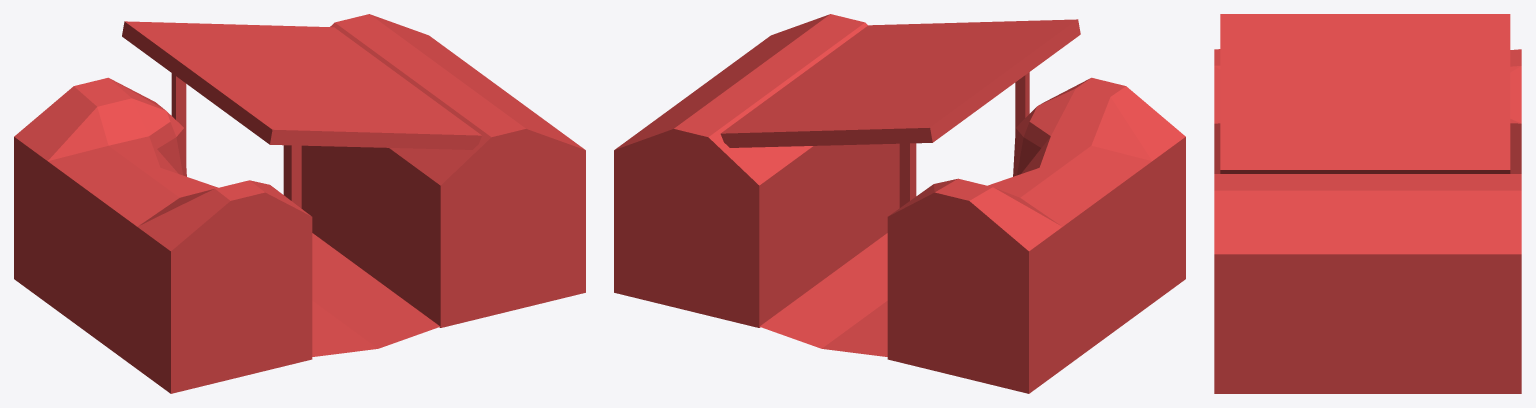
File: Ground_Firebay_Wood_COL.fbx
3 renders of one model, left to right at view 1: azimuth 30°, elevation 25°; view 2: azimuth 150°, elevation 25°; view 3: azimuth 270°, elevation 25°, orthographic. The views are drawn at different scales.
Visible parts, largest first — view 1: Ground_Firebay_Wood_COL; view 2: Ground_Firebay_Wood_COL; view 3: Ground_Firebay_Wood_COL.
Part boxes in pixels (bbox=[...]): Ground_Firebay_Wood_COL: bbox=[14, 14, 585, 393]; Ground_Firebay_Wood_COL: bbox=[614, 14, 1185, 393]; Ground_Firebay_Wood_COL: bbox=[1214, 14, 1521, 393].
Size of the model in its own units: 611 by 340 by 400.
